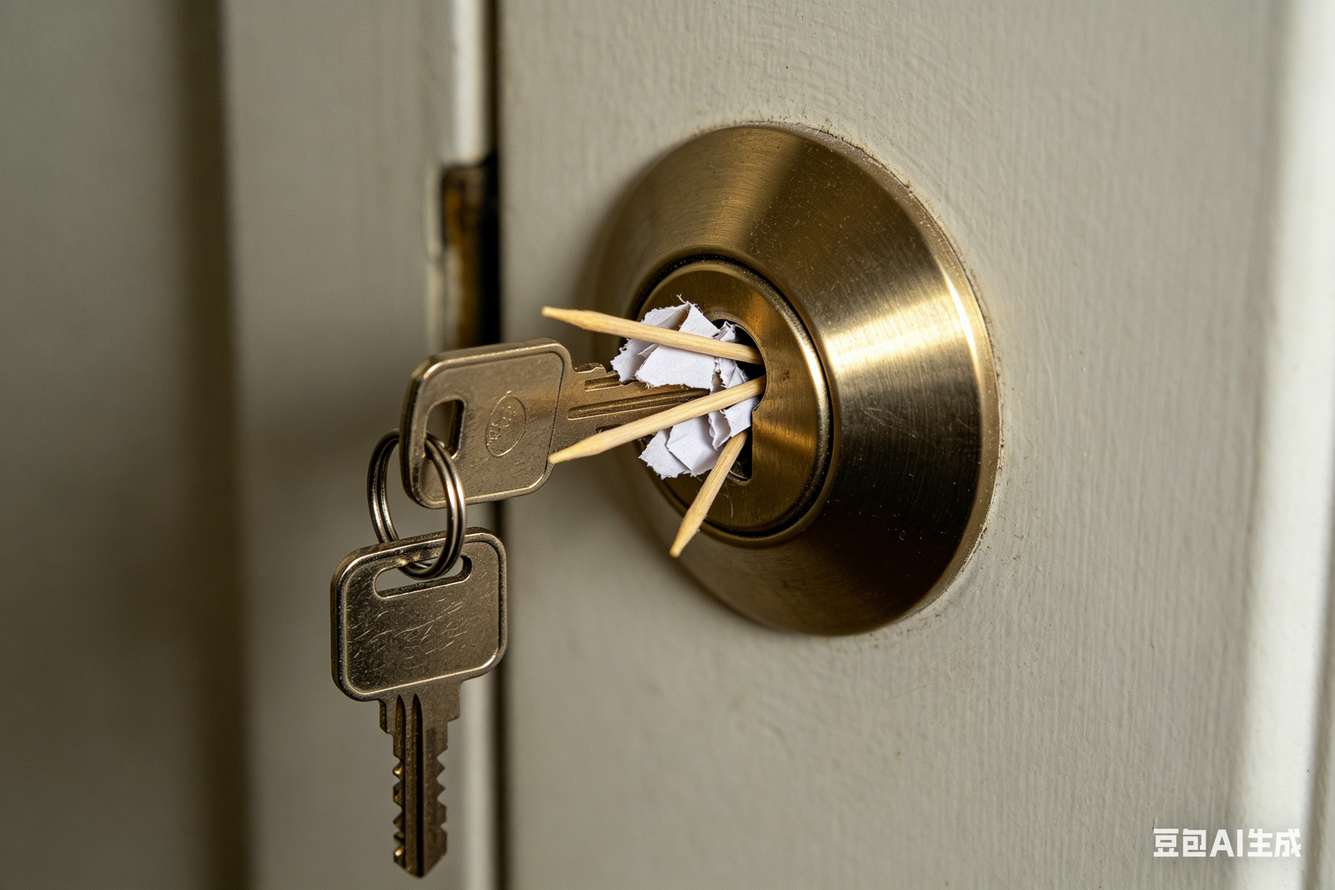BadLock: (613, 281, 809, 521)
